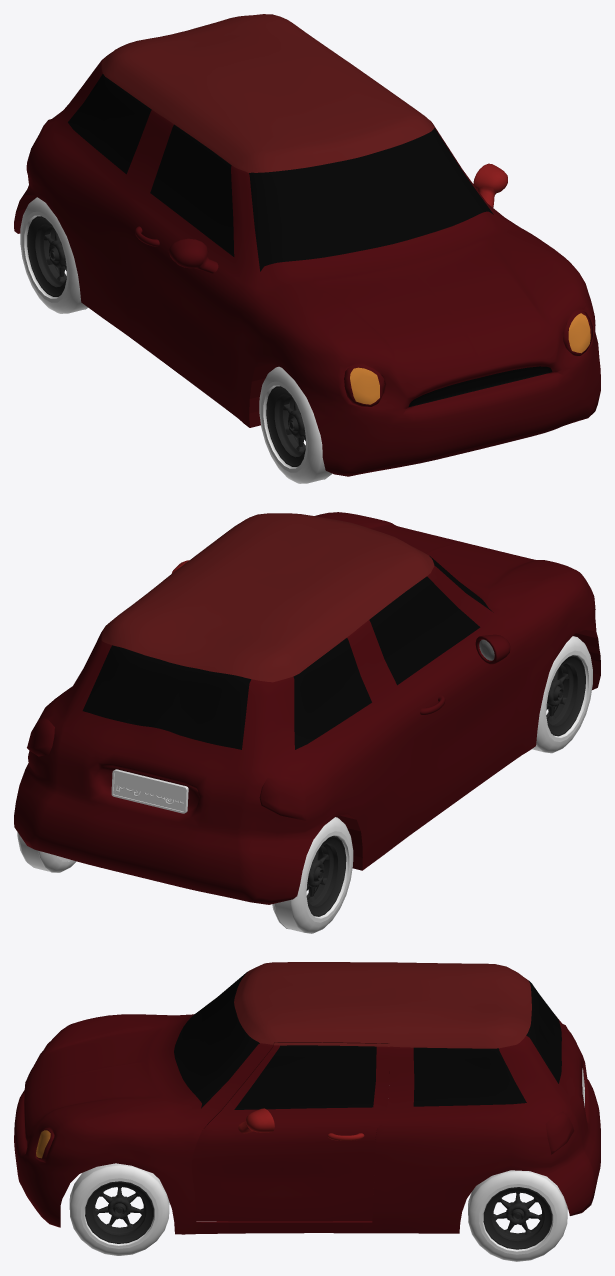
File: renaultcar.fbx
3 renders of one model, top to bottom at view 1: azimuth 30°, elevation 25°; view 2: azimuth 150°, elevation 25°; view 3: azimuth 270°, elevation 25°, orthographic. The views are drawn at different scales.
Parts seen in each view (by area): view 1: car body, car rubber2, car rubber4, Car wheel001, Car wheel002, carhandle_r, openablecardoor_L; view 2: car body, car rubber4, Car wheel001, Car wheel002, car rubber2, regplate, carhandle_r, car rubber3; view 3: car body, openablecardoor_L, car rubber1, car rubber3, Car wheel003, Car rim.
Part boxes in pixels (x1=…): car body: x1=14, y1=14, x2=600, y2=476; car rubber2: x1=259, y1=366, x2=332, y2=483; car rubber4: x1=20, y1=197, x2=88, y2=313; Car wheel001: x1=266, y1=386, x2=305, y2=466; Car wheel002: x1=27, y1=216, x2=66, y2=296; carhandle_r: x1=135, y1=226, x2=218, y2=273; openablecardoor_L: x1=473, y1=163, x2=507, y2=207; car body: x1=14, y1=512, x2=600, y2=904; car rubber4: x1=272, y1=817, x2=353, y2=933; Car wheel001: x1=546, y1=655, x2=585, y2=736; Car wheel002: x1=306, y1=836, x2=346, y2=916; car rubber2: x1=532, y1=636, x2=592, y2=753; regplate: x1=111, y1=769, x2=188, y2=813; carhandle_r: x1=420, y1=634, x2=510, y2=714; car rubber3: x1=17, y1=832, x2=76, y2=872; car body: x1=14, y1=962, x2=600, y2=1234; openablecardoor_L: x1=191, y1=1042, x2=389, y2=1221; car rubber1: x1=69, y1=1163, x2=169, y2=1255; car rubber3: x1=468, y1=1170, x2=567, y2=1261; Car wheel003: x1=483, y1=1187, x2=552, y2=1249; Car rim: x1=85, y1=1181, x2=153, y2=1243.
Size of the model in its own units: 138 by 104 by 255.
